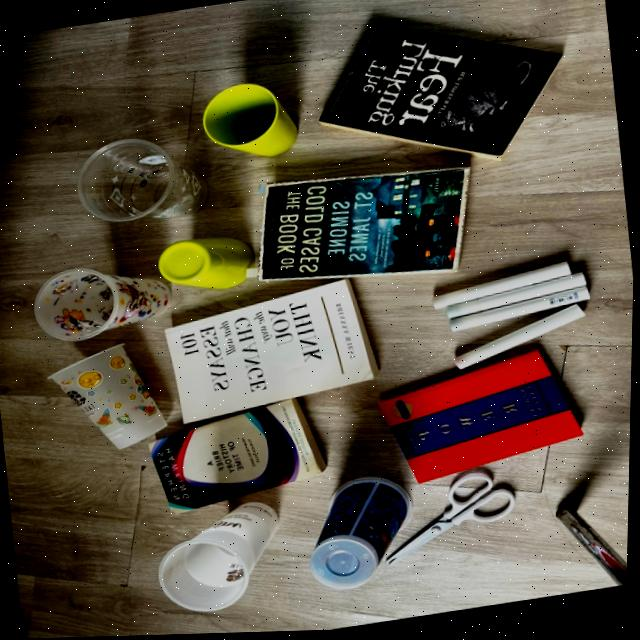Book: (321, 25, 561, 161), (167, 282, 378, 423), (380, 351, 587, 486), (260, 171, 468, 281), (147, 403, 327, 515)
HighLight Pen: (458, 308, 585, 371), (435, 265, 571, 311), (448, 276, 587, 320), (452, 290, 590, 333)
Plastic Cup: (161, 503, 281, 613), (51, 345, 169, 449), (313, 480, 414, 591), (78, 139, 207, 223), (36, 269, 172, 341)
Scissors: (389, 475, 517, 565)
WaterGlass: (203, 86, 298, 157), (159, 240, 255, 290)
